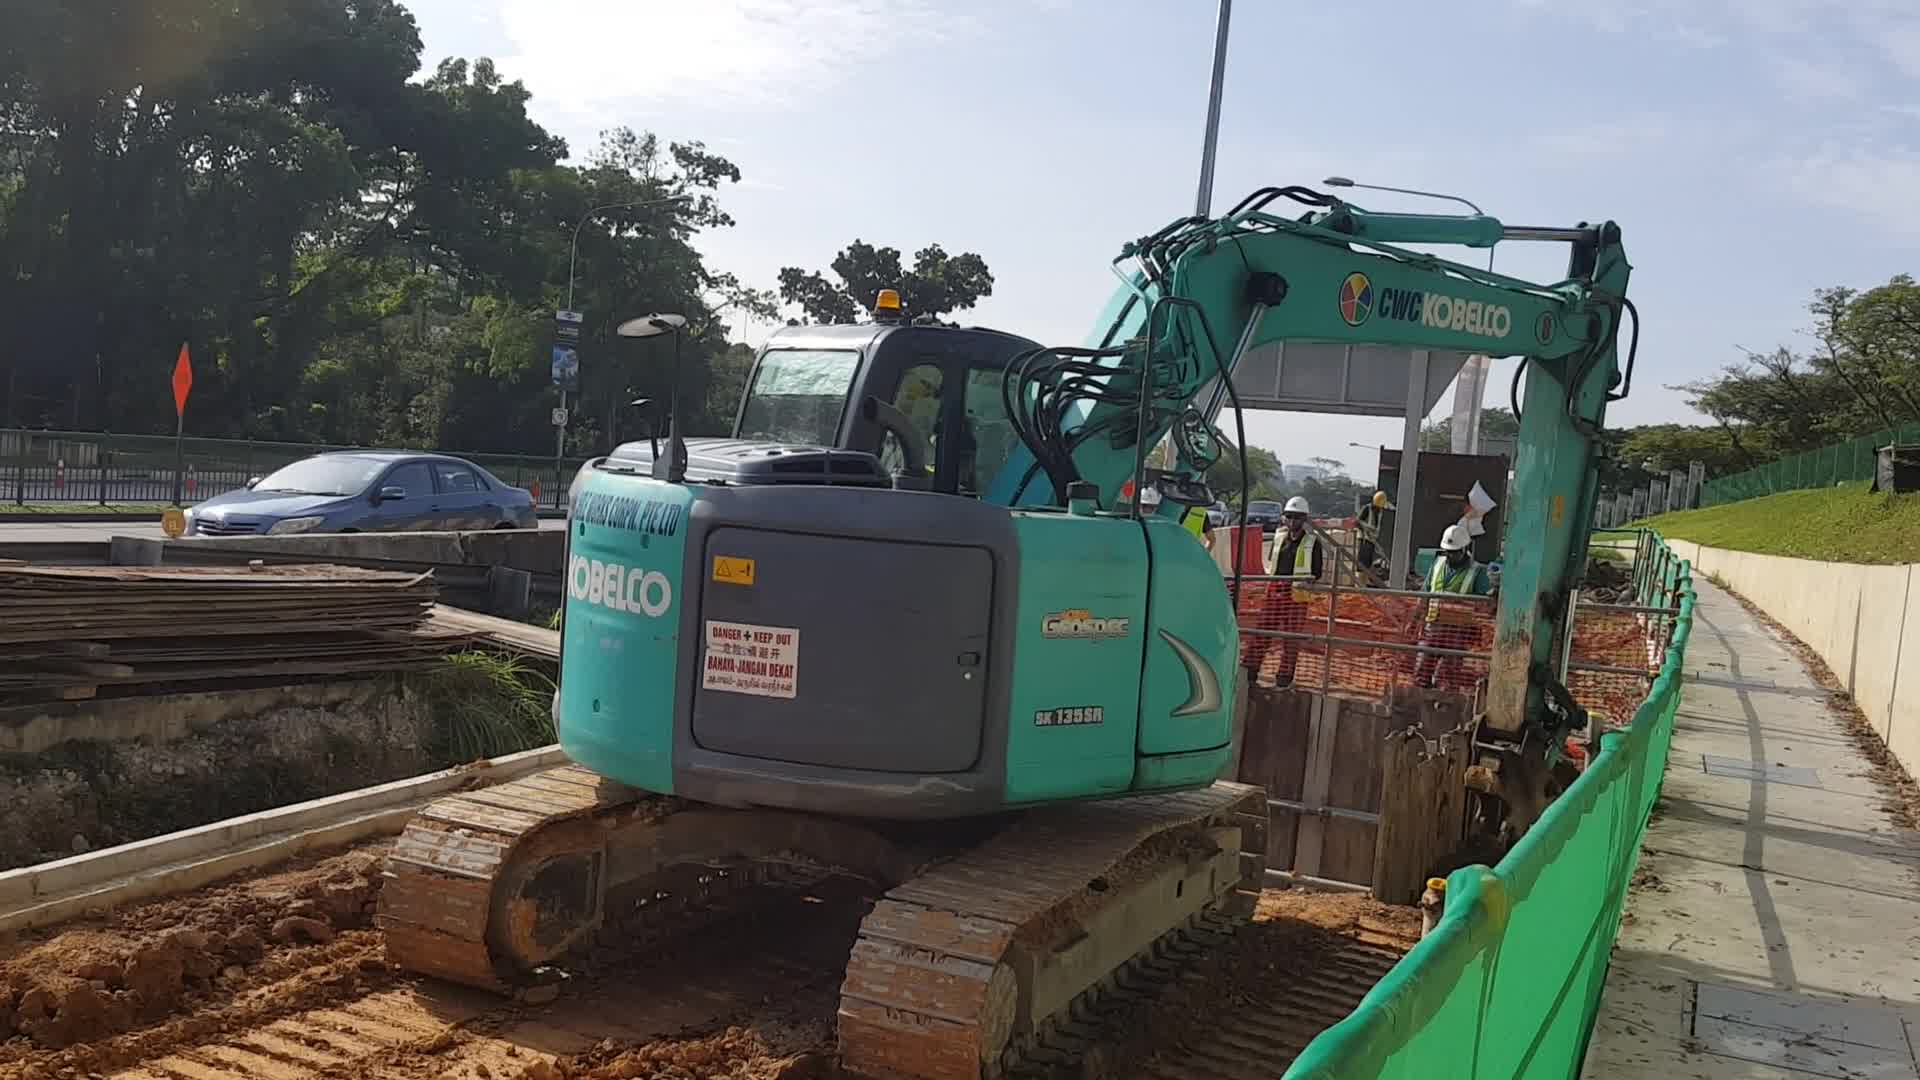cabin: (547, 284, 1246, 800)
forearm: (1482, 220, 1631, 720)
upperarm: (1006, 218, 1604, 512)
wheelbase: (378, 766, 1276, 1080)
